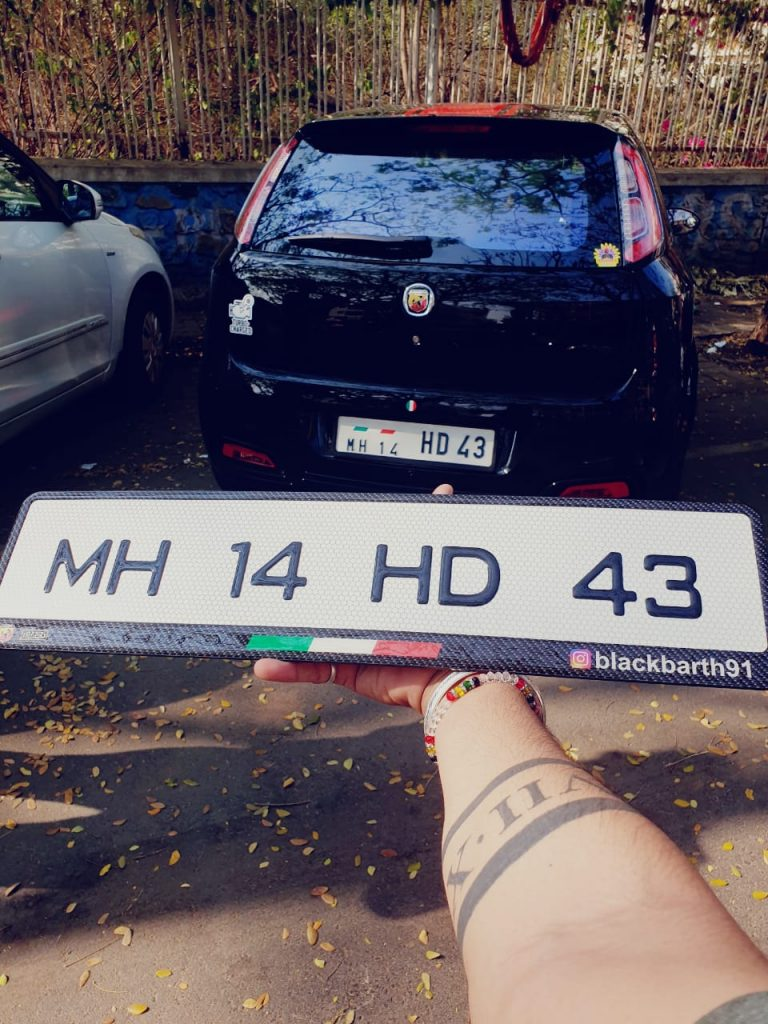number_plate: (4, 475, 768, 696), (324, 398, 505, 469)
